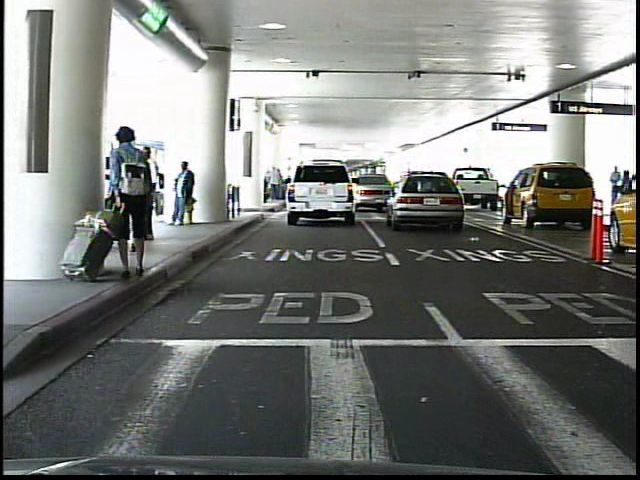person: (110, 124, 160, 284), (135, 145, 163, 239), (172, 158, 198, 228), (607, 163, 621, 214), (618, 166, 633, 213)
